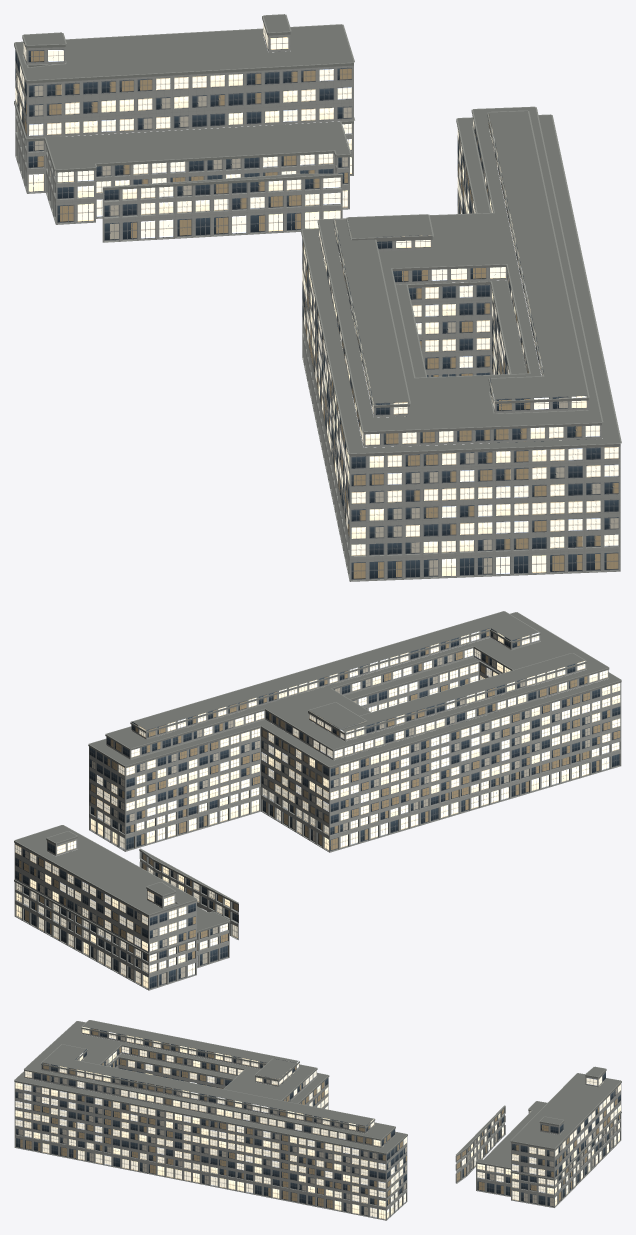
File: westpark.glb
3 views of the same model, one above another, from view 1: azimuth 30°, elevation 25°; view 2: azimuth 150°, elevation 25°; view 3: azimuth 270°, elevation 25° (orthographic). The views are drawn at different scales.
Parts seen in each view (by area): view 1: westpark; view 2: westpark; view 3: westpark.
Part boxes in pixels (box(x1,y1,x2,y2)): westpark: box(14, 14, 621, 581); westpark: box(14, 611, 621, 990); westpark: box(14, 1020, 621, 1220).
Bounding box in the file's own units: 107 × 32.45 × 214.
Materials: 3 (3 with a texture image).
